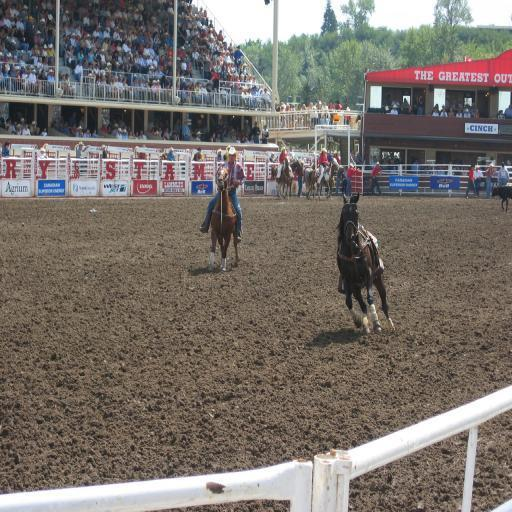horse: (336, 188, 396, 336), (208, 161, 242, 272), (306, 152, 342, 202), (272, 155, 292, 202)
